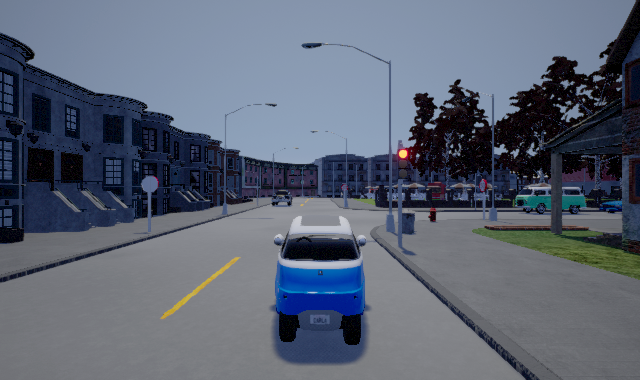traffic_light: (397, 143, 408, 185)
traffic_sign: (477, 178, 487, 192), (341, 184, 348, 191)
vehicle: (274, 215, 367, 345), (515, 188, 586, 214), (271, 189, 292, 206)
